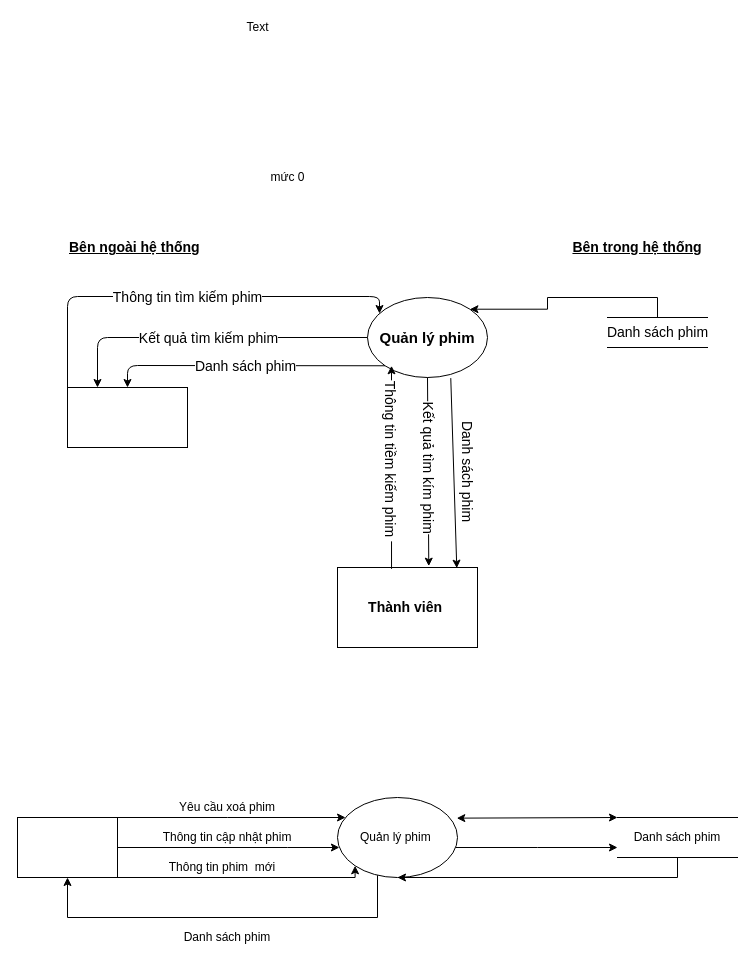
Some shapes in this 755 by 964 pixel diagram are drawn without their labels. Here are the shapes that lost their labels. From the top down, the box of each, then its label:
(66, 386, 188, 448): Khách
(16, 816, 118, 878): Nhân viên
